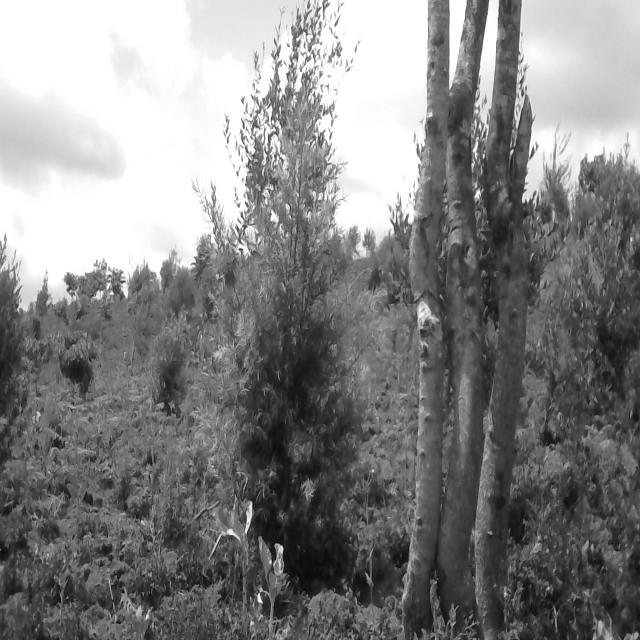Podocarpus falcatus: (208, 66, 376, 580)
